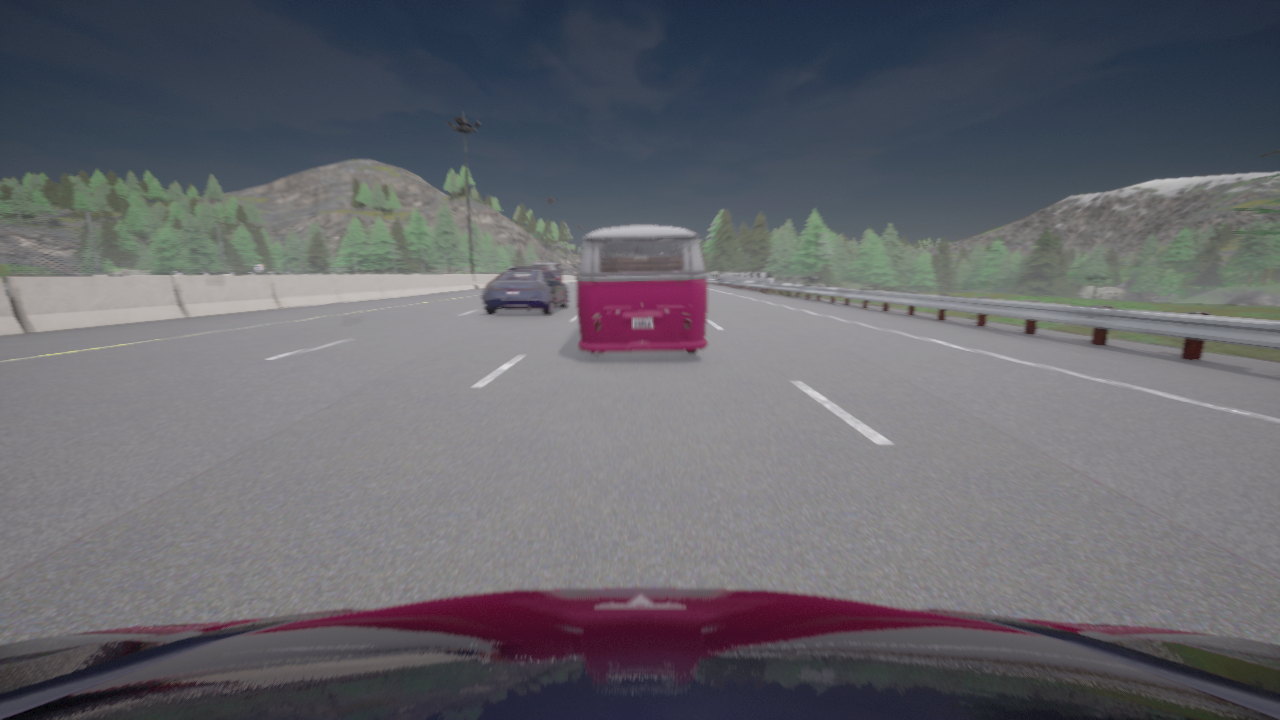cyclist: (0, 588, 1279, 719), (576, 225, 706, 356), (481, 268, 568, 314), (530, 262, 561, 282)
